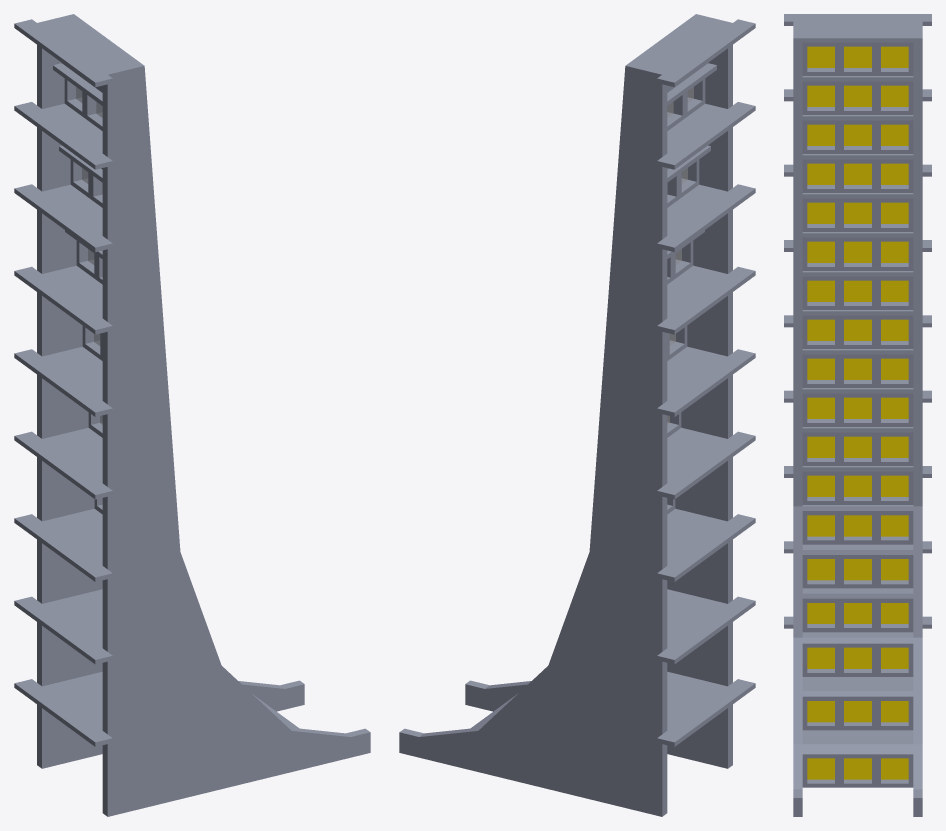
The model's file is building_ct-length_v01.gltf.
3 views of the same model, side by side, from view 1: azimuth 30°, elevation 25°; view 2: azimuth 150°, elevation 25°; view 3: azimuth 270°, elevation 25° (orthographic). The views are drawn at different scales.
Parts seen in each view (by area): view 1: structure, capsule; view 2: structure, capsule; view 3: structure, capsule, window.
Boxes of the visible parts, box(x1,y1,x2,y2) form: structure: box(14, 14, 370, 816); capsule: box(62, 63, 102, 514); structure: box(399, 14, 755, 816); capsule: box(667, 63, 707, 514); structure: box(784, 14, 931, 816); capsule: box(802, 42, 913, 787); window: box(807, 46, 908, 779).
Size of what is drawn, in the model's own units: 32 by 81 by 16.
